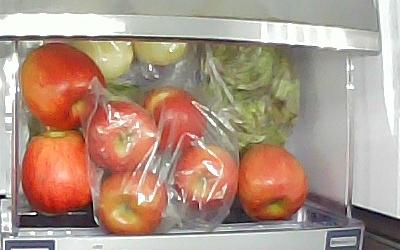apple: (20, 43, 107, 130), (22, 132, 98, 217), (239, 144, 308, 222)
apple_vinyl: (88, 100, 158, 173), (98, 172, 168, 236), (141, 86, 206, 154), (174, 144, 238, 211)
